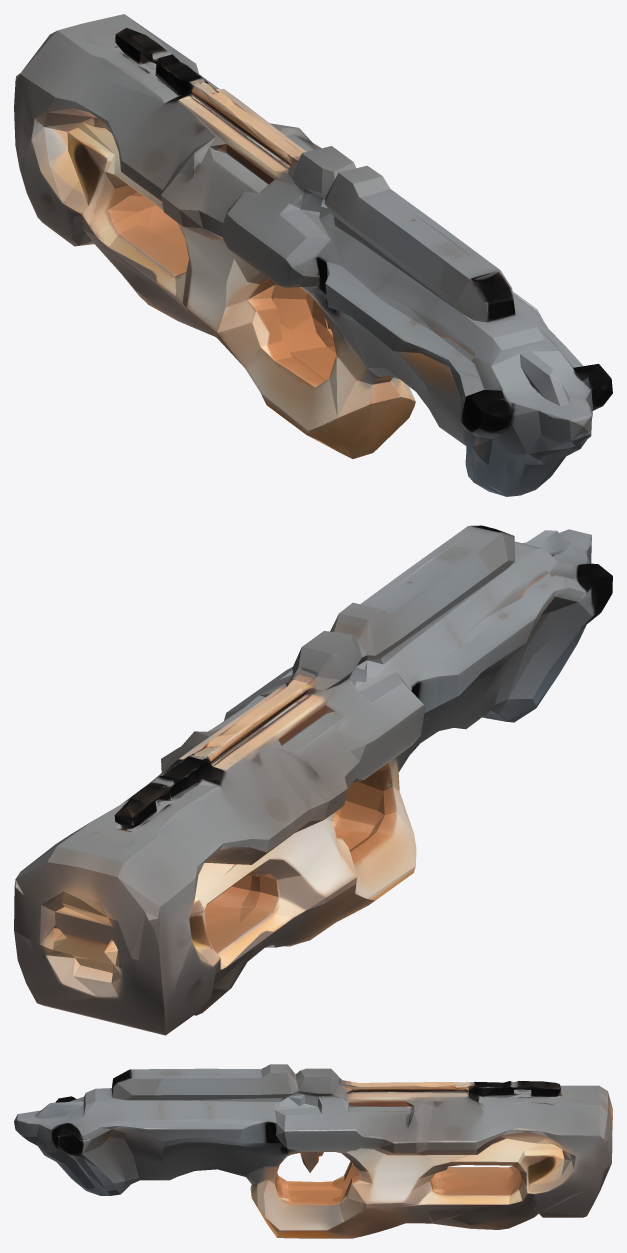
Rendered from shotgun.gltf.
3 renders of one model, top to bottom at view 1: azimuth 30°, elevation 25°; view 2: azimuth 150°, elevation 25°; view 3: azimuth 270°, elevation 25°, orthographic. The views are drawn at different scales.
Parts seen in each view (by area): view 1: model; view 2: model; view 3: model.
Part boxes in pixels (x1,y1,x2,y2): model: (14, 14, 612, 496); model: (14, 525, 612, 1035); model: (14, 1064, 612, 1238).
Bounding box in the file's own units: 0.3676 × 0.5899 × 1.9.
Materials: 1 (1 with a texture image).
